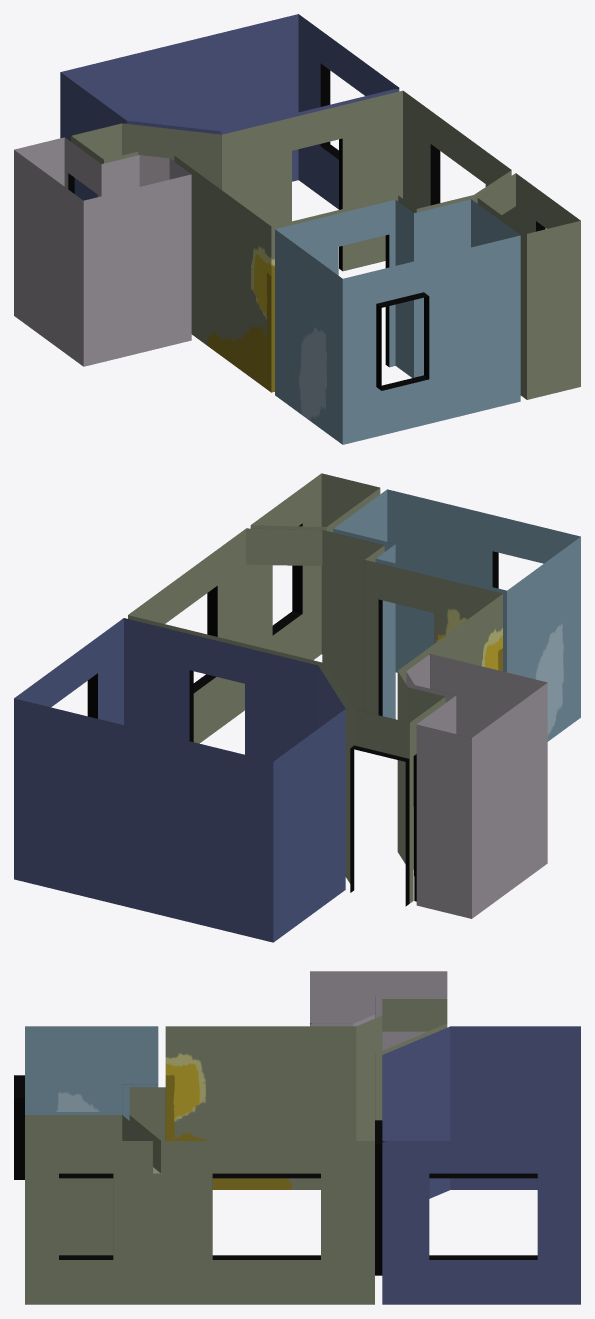
The model's file is ColoredKnaalaj99.fbx.
3 renders of one model, top to bottom at view 1: azimuth 30°, elevation 25°; view 2: azimuth 150°, elevation 25°; view 3: azimuth 270°, elevation 25°, orthographic. The views are drawn at different scales.
Visible parts, largest first — view 1: Unified.001; view 2: Unified.001; view 3: Unified.001.
Boxes of the visible parts, left/top/right/bottom form: Unified.001: left=14, top=14, right=580, bottom=444; Unified.001: left=14, top=473, right=580, bottom=942; Unified.001: left=14, top=971, right=580, bottom=1304.
Bounding box in the file's own units: 570 × 250 × 785.
